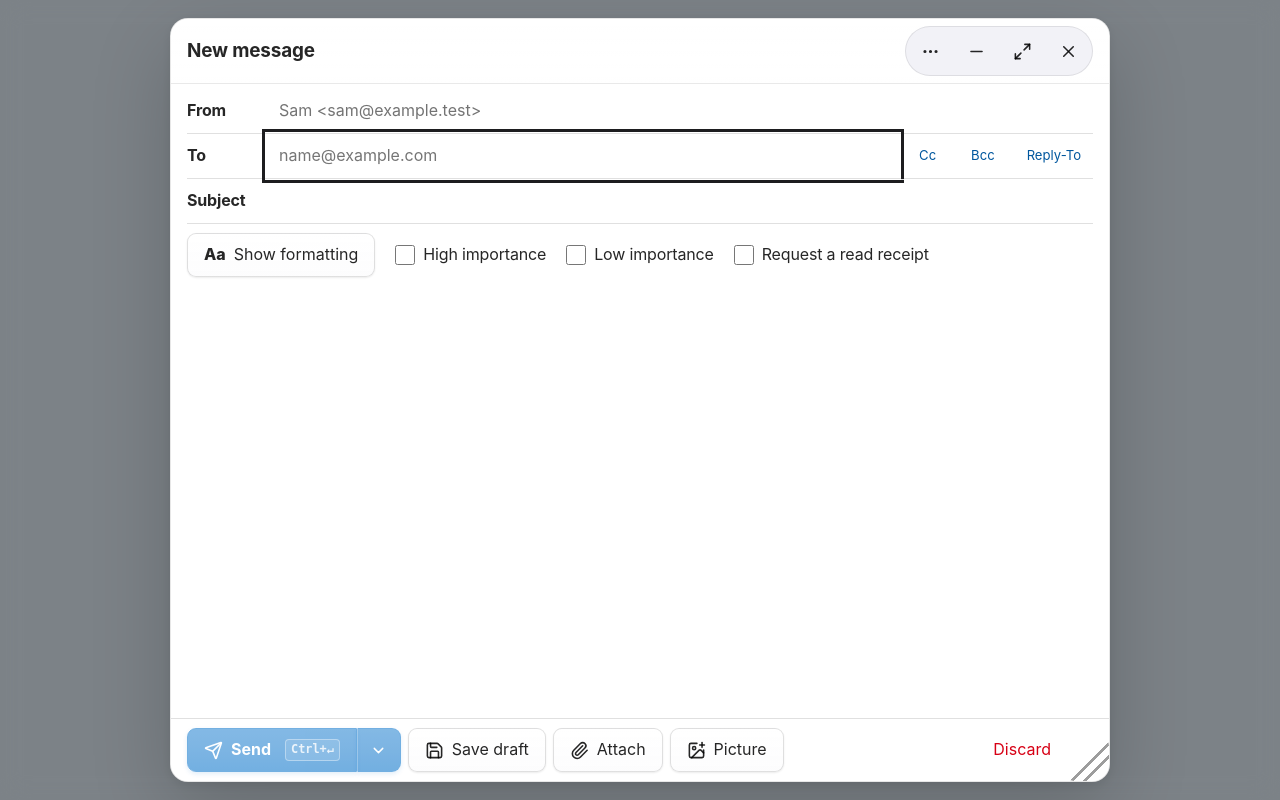
Test: composer draft persistence › promptly saves edits made during a save
The image size is (1280, 800).
Type "jane@example.test" into the dropdown with placeholder "name@example.com".
click(583, 156); type("jane@example.test")  # box [267, 134, 899, 178]
Wait 6000 ms
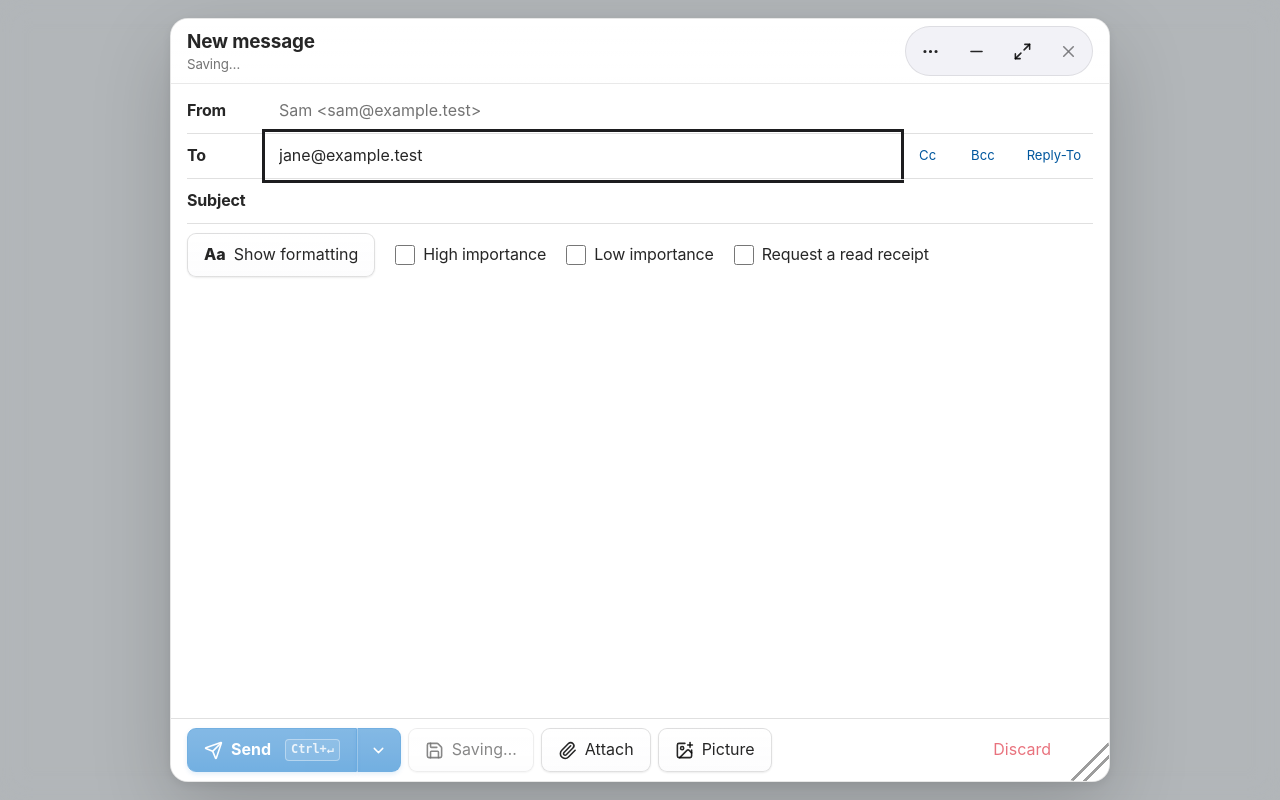
Type "Updated after autosave started" into the field labelled "Subject".
click(680, 201); type("Updated after autosave started")  # box [267, 179, 1093, 223]
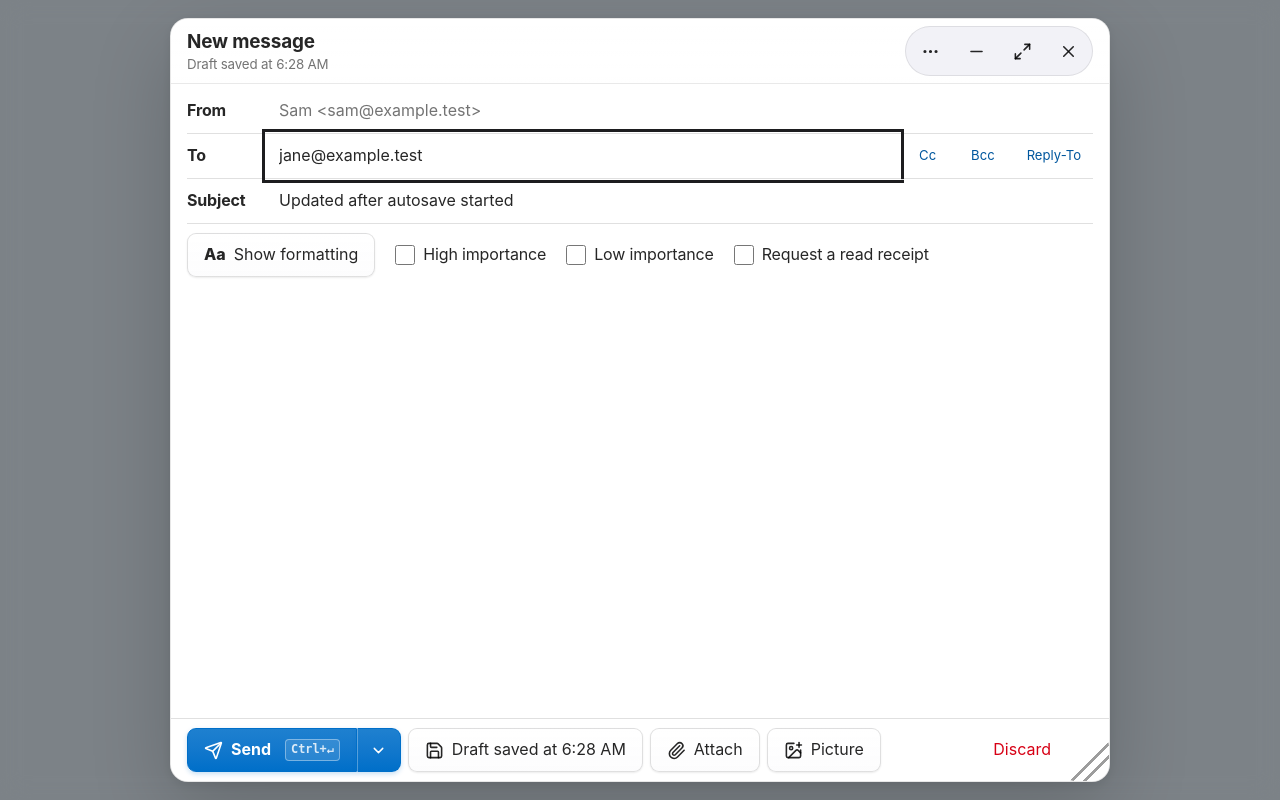
Result: the text "Draft saved at 6:28 AM" is shown at [187, 55, 328, 74]
